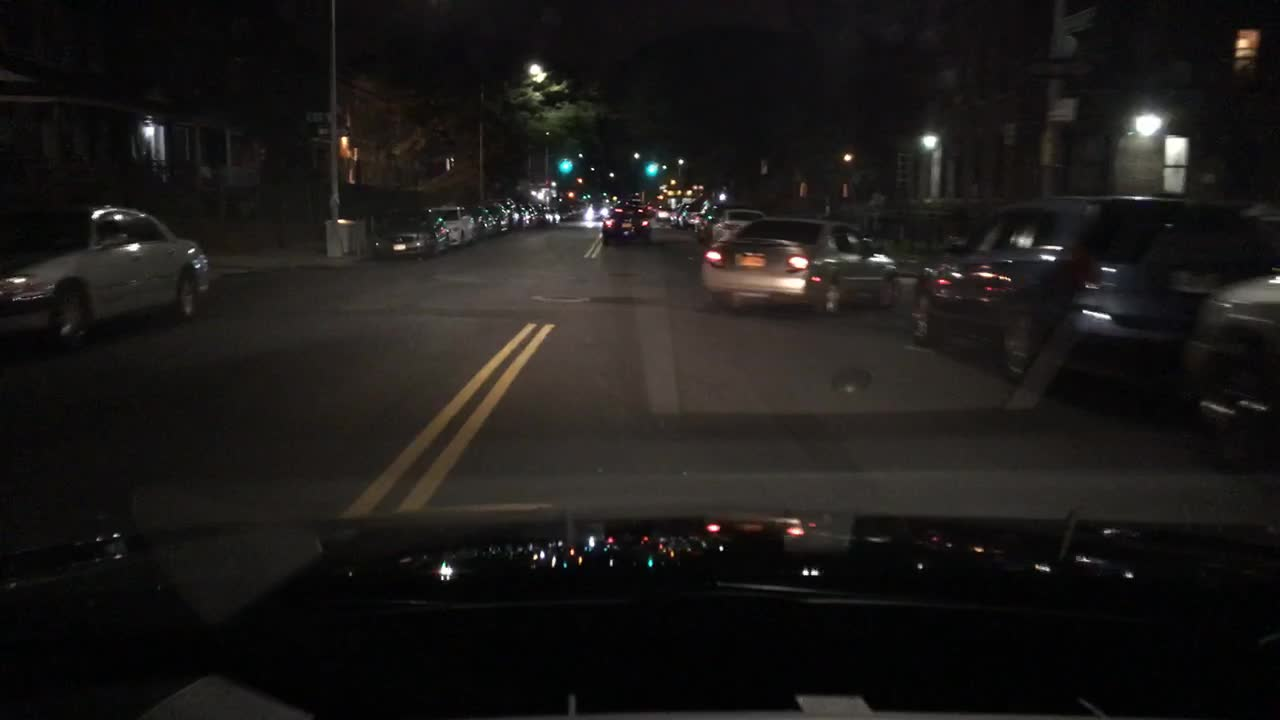car: (912, 193, 1277, 383), (0, 201, 212, 342), (699, 214, 904, 317), (1182, 268, 1277, 457), (370, 210, 452, 262), (710, 208, 775, 247), (600, 203, 655, 246), (436, 206, 476, 244), (696, 198, 733, 237), (463, 202, 496, 235), (667, 201, 701, 230), (483, 199, 507, 231), (583, 201, 615, 224), (502, 198, 526, 227), (538, 199, 564, 225), (520, 199, 543, 227), (559, 199, 586, 222), (654, 201, 673, 222)
traffic light: (644, 160, 660, 177), (559, 160, 575, 173)
